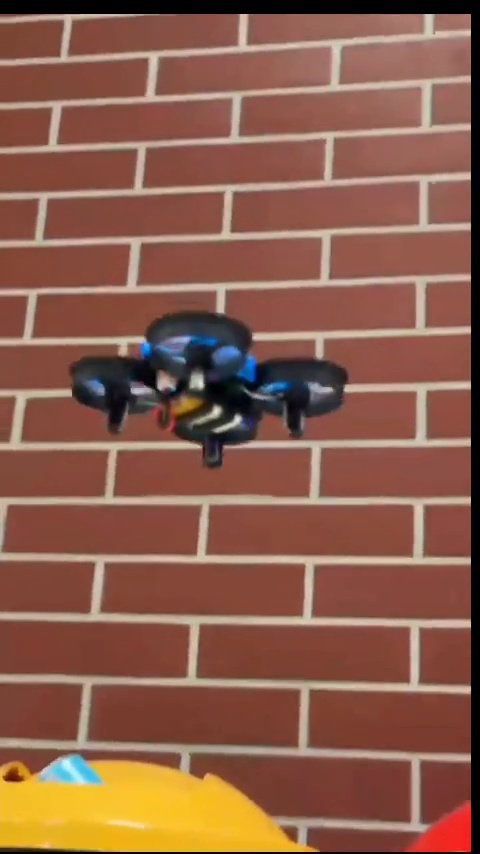drone: (77, 311, 366, 468)
